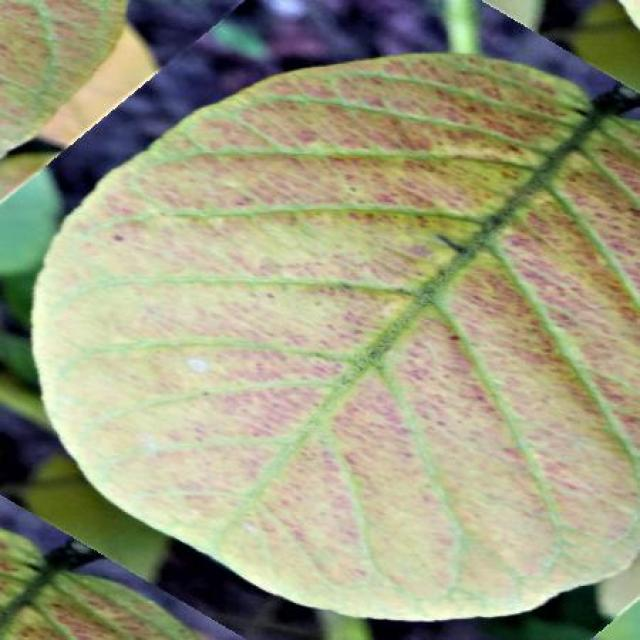Red Rust: (34, 55, 640, 619)
